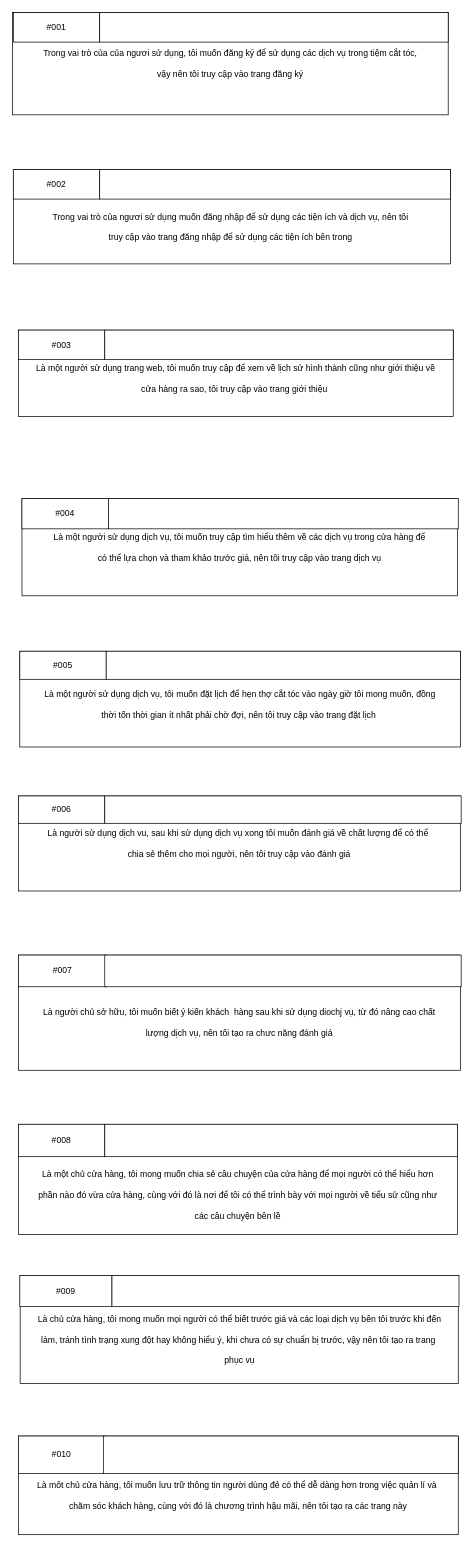
Image size: 474x1547. Some labels were removed from this diagram. The shapes that lost their labels are listed below. From the top down, each one's centre as x and y in pixels, then its label:
the point at 273,27: User Sign up
the point at 274,184: User Sign in
the point at 278,344: Truy cập vào trang giới thiệu
the point at 283,513: Truy cập vào trang dịch vụ
the point at 282,665: Truy cập vào trang đặt lịch
the point at 282,809: Truy cập vào trang đánh giá
the point at 282,970: Tạo ra trang đánh giá
the point at 281,1140: Trang giới thiệu cửa hàng
the point at 285,1290: Admin trang dịch vụ
the point at 280,1454: Admin trang đăng kí và đăng nhập
